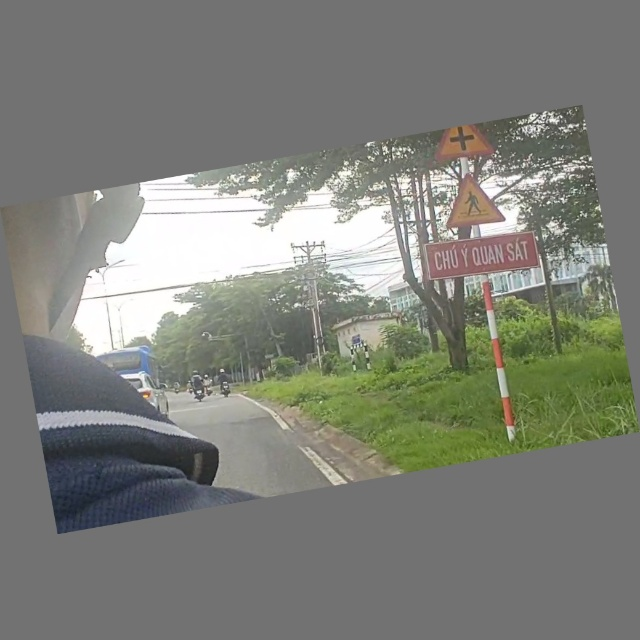W.205a: (429, 122, 499, 165)
W.224: (439, 168, 510, 233)
